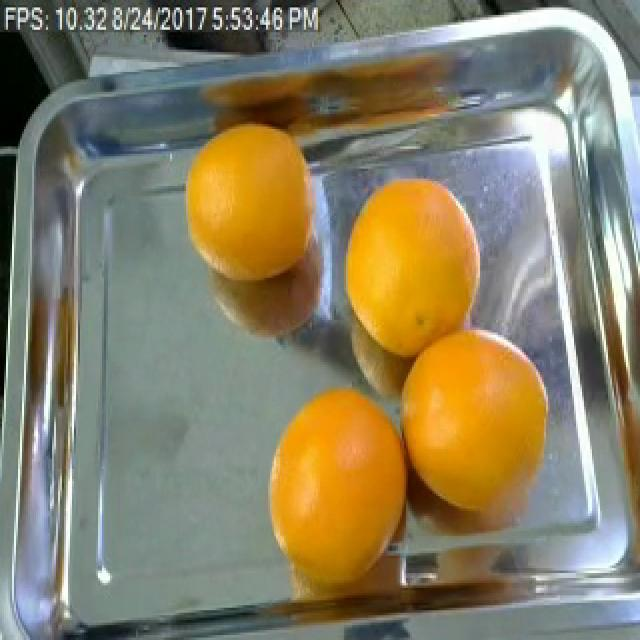Fruit: (330, 156, 498, 365), (168, 104, 336, 310), (256, 370, 410, 570)
